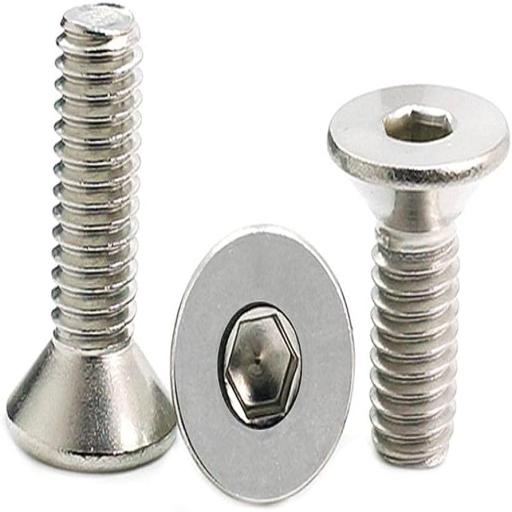Hex-Allen: (168, 224, 358, 504)
